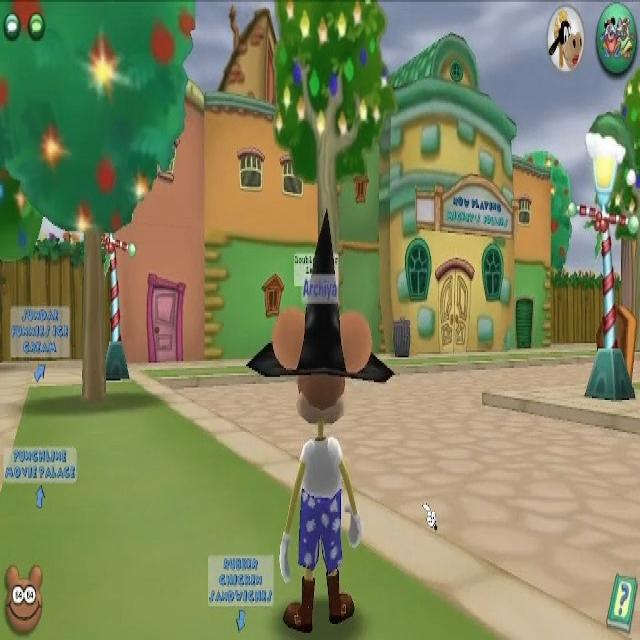doubletalker: (292, 255, 340, 290)
